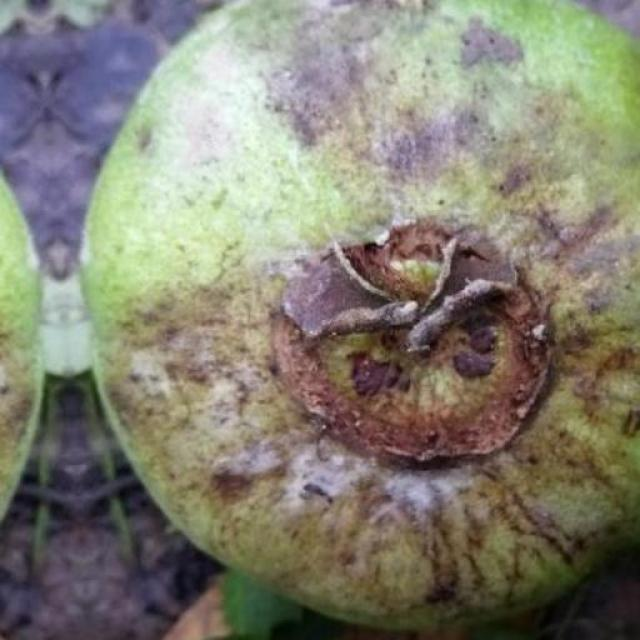Styler_Root: (84, 0, 640, 627)
